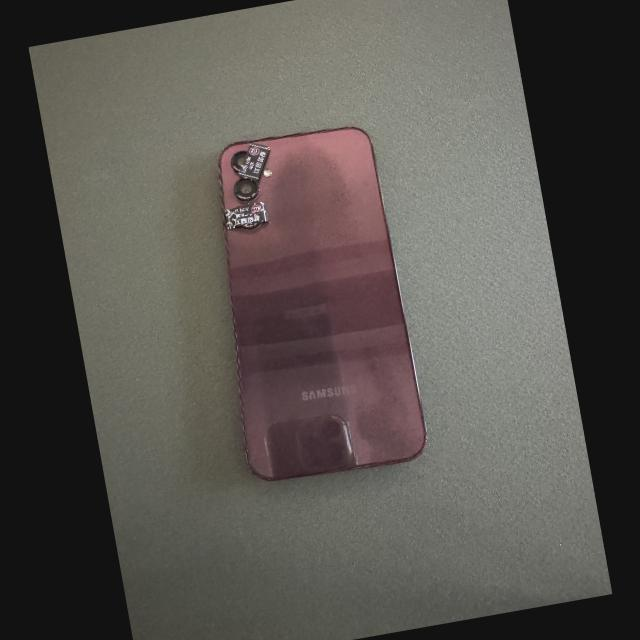lens: (234, 178, 258, 201), (232, 150, 247, 172)
phone: (218, 126, 426, 480)
sticker: (237, 142, 269, 181), (224, 201, 268, 228)
